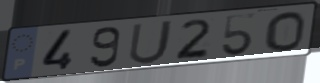2: (174, 17, 213, 62)
4: (39, 27, 78, 73)
5: (220, 11, 263, 58)
9: (90, 26, 123, 68)
O: (263, 10, 307, 53)
U: (126, 18, 176, 66)
